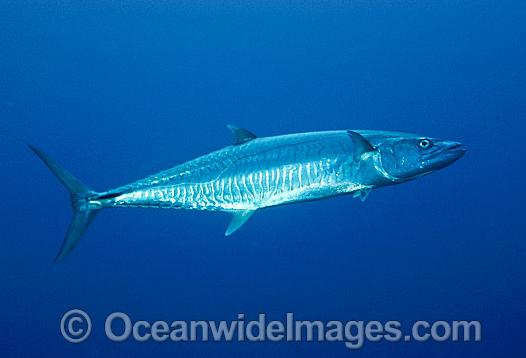Scombridae -Tunas-: (17, 104, 467, 277)
